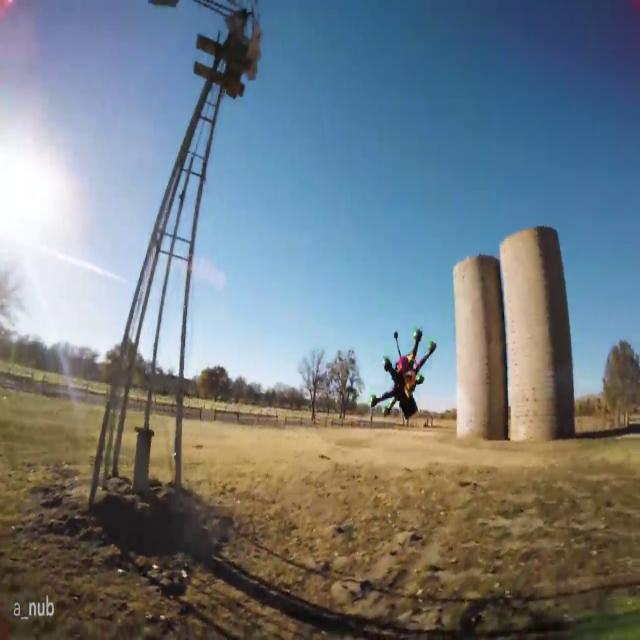drone: (363, 330, 436, 430)
